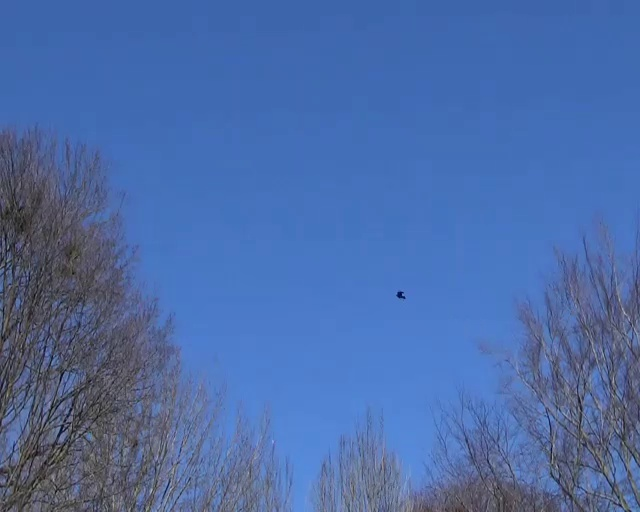BIRD: (397, 290, 406, 299)
